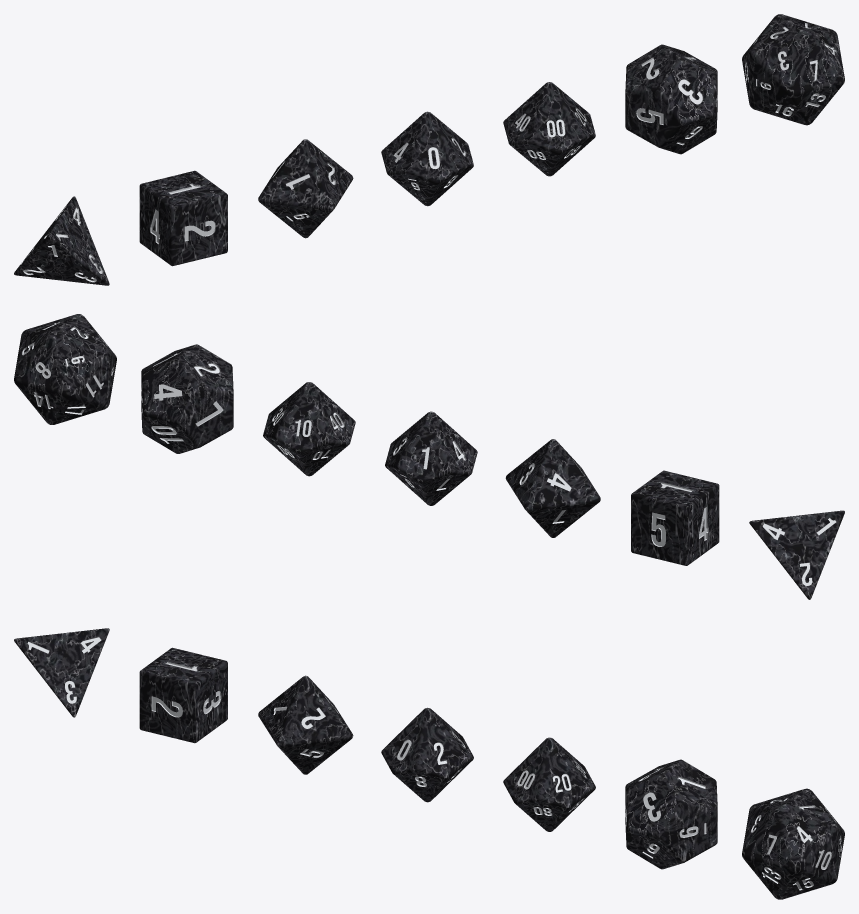
The model's file is onyx.glb.
3 renders of one model, top to bottom at view 1: azimuth 30°, elevation 25°; view 2: azimuth 150°, elevation 25°; view 3: azimuth 330°, elevation 25°, orthographic.
Visible parts, largest first — view 1: d20, d12, d6, d100, d10, d8, d4; view 2: d20, d12, d6, d100, d10, d8, d4; view 3: d20, d12, d6, d8, d100, d10, d4.
Boxes of the visible parts, <box> form: d20: <box>742,14,844,125</box>; d12: <box>625,44,717,154</box>; d6: <box>139,170,227,266</box>; d100: <box>503,82,595,176</box>; d10: <box>381,111,473,206</box>; d8: <box>258,139,353,238</box>; d4: <box>14,196,109,285</box>; d20: <box>14,314,116,424</box>; d12: <box>141,344,233,453</box>; d6: <box>631,470,719,565</box>; d100: <box>263,382,355,476</box>; d10: <box>385,411,477,505</box>; d8: <box>505,439,600,537</box>; d4: <box>749,510,844,599</box>; d20: <box>742,788,844,899</box>; d12: <box>625,759,717,869</box>; d6: <box>139,647,227,743</box>; d8: <box>258,675,353,774</box>; d100: <box>503,737,595,831</box>; d10: <box>381,707,473,802</box>; d4: <box>14,628,109,717</box>.
Size of the model in its own units: 21.14 by 2.47 by 2.47.
14 materials, 7 textured.
